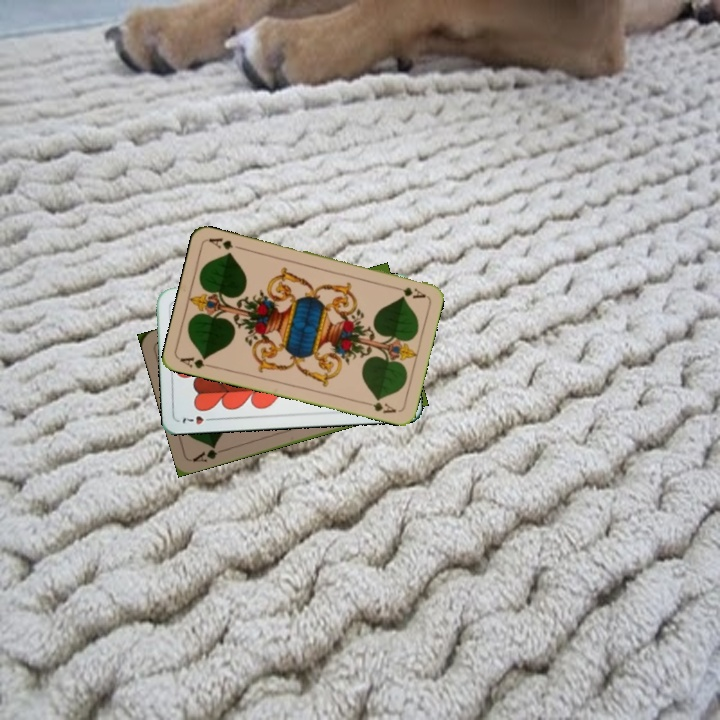GA: (189, 441, 228, 465), (388, 282, 428, 301), (176, 353, 217, 371)
H7: (178, 412, 217, 427)
